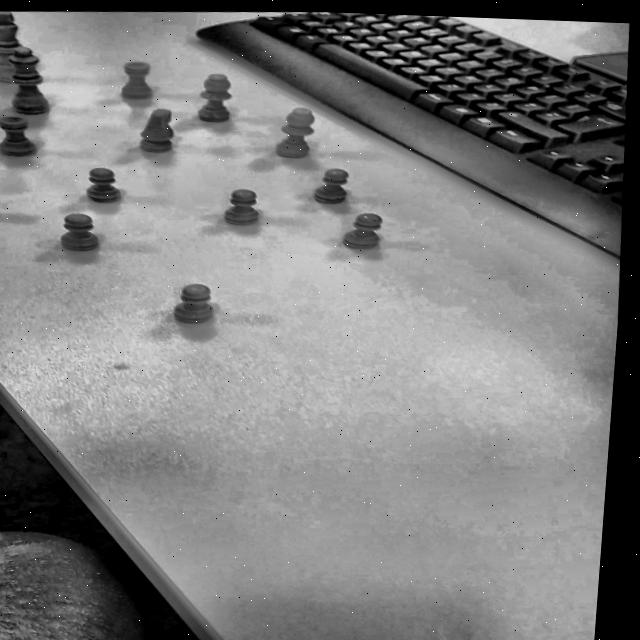white-bishop: (268, 104, 332, 166), (187, 71, 244, 128)
white-king: (0, 9, 53, 91)
white-knight: (134, 106, 189, 160)
white-pawn: (162, 276, 239, 338), (48, 210, 110, 260), (71, 164, 138, 210), (337, 211, 395, 257), (308, 162, 360, 208), (218, 186, 266, 230)
white-queen: (0, 46, 64, 119)
white-rook: (109, 56, 166, 108), (0, 112, 52, 166)
